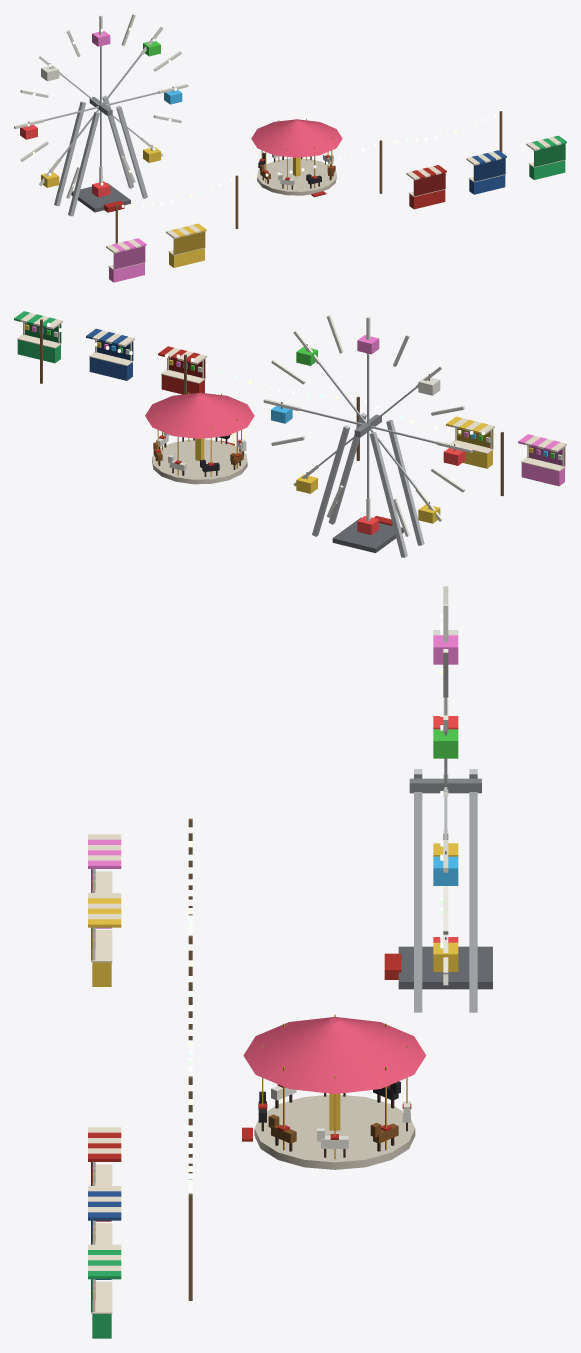
The model's file is carnival.glb.
3 renders of one model, top to bottom at view 1: azimuth 30°, elevation 25°; view 2: azimuth 150°, elevation 25°; view 3: azimuth 270°, elevation 25°, orthographic. The views are drawn at different scales.
Parts seen in each view (by area): view 1: Solid2, Part9, Box6, Box3, Box1, Box4, Box172, Box188, Box140, Box124, Box156, Box146 (+5 smaller); view 2: Solid2, Part9, Box6, Box1, Box3, Box2, Box130, Box162, Box4, Box146, Box114, Box178 (+11 smaller); view 3: Solid2, Part9, Box6, Box2, Box4, Box5.
Part boxes in pixels (left/top/right/bottom): Solid2: left=251, top=119, right=342, bottom=157; Part9: left=257, top=158, right=336, bottom=195; Box6: left=71, top=183, right=130, bottom=212; Box3: left=68, top=111, right=99, bottom=216; Box1: left=54, top=101, right=85, bottom=206; Box4: left=116, top=105, right=147, bottom=198; Box172: left=113, top=246, right=145, bottom=269; Box188: left=173, top=231, right=205, bottom=254; Box140: left=474, top=158, right=505, bottom=181; Box124: left=414, top=173, right=445, bottom=196; Box156: left=534, top=143, right=565, bottom=166; Box146: left=529, top=160, right=565, bottom=179; Solid2: left=145, top=392, right=254, bottom=438; Part9: left=152, top=439, right=247, bottom=484; Box6: left=332, top=517, right=403, bottom=553; Box1: left=369, top=432, right=407, bottom=557; Box3: left=386, top=420, right=424, bottom=545; Box2: left=312, top=425, right=350, bottom=536; Box130: left=89, top=357, right=132, bottom=380; Box162: left=521, top=462, right=564, bottom=486; Box4: left=328, top=413, right=366, bottom=524; Box146: left=17, top=339, right=60, bottom=363; Box114: left=161, top=374, right=204, bottom=394; Box178: left=463, top=450, right=492, bottom=468; Solid2: left=243, top=1017, right=426, bottom=1093; Part9: left=254, top=1095, right=415, bottom=1169; Box6: left=398, top=946, right=492, bottom=989; Box2: left=469, top=792, right=477, bottom=1012; Box4: left=414, top=792, right=422, bottom=1012; Box5: left=409, top=778, right=481, bottom=793.
Bounding box in the file's own units: 38.55 × 14.79 × 14.6.
